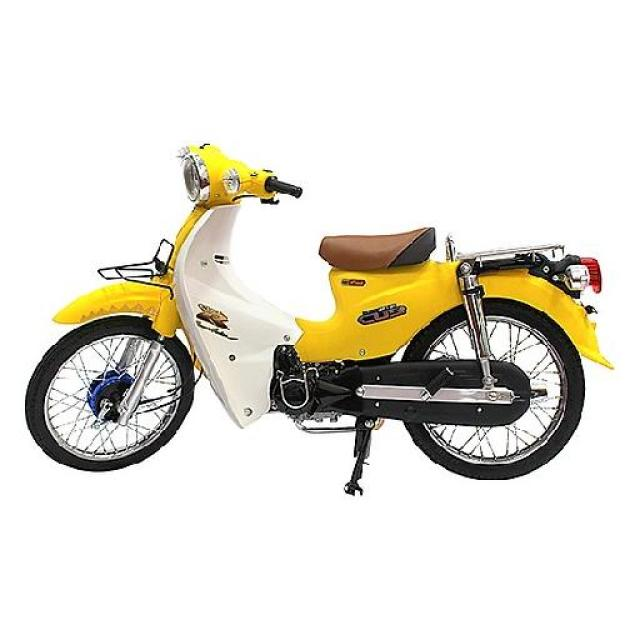All: (22, 136, 624, 481)
Head: (172, 138, 306, 212)
Tail: (542, 238, 605, 303)
